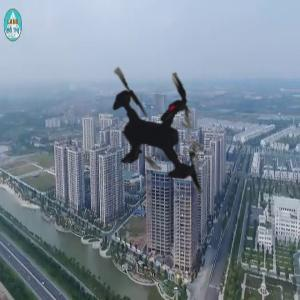drone: (55, 27, 266, 238)
